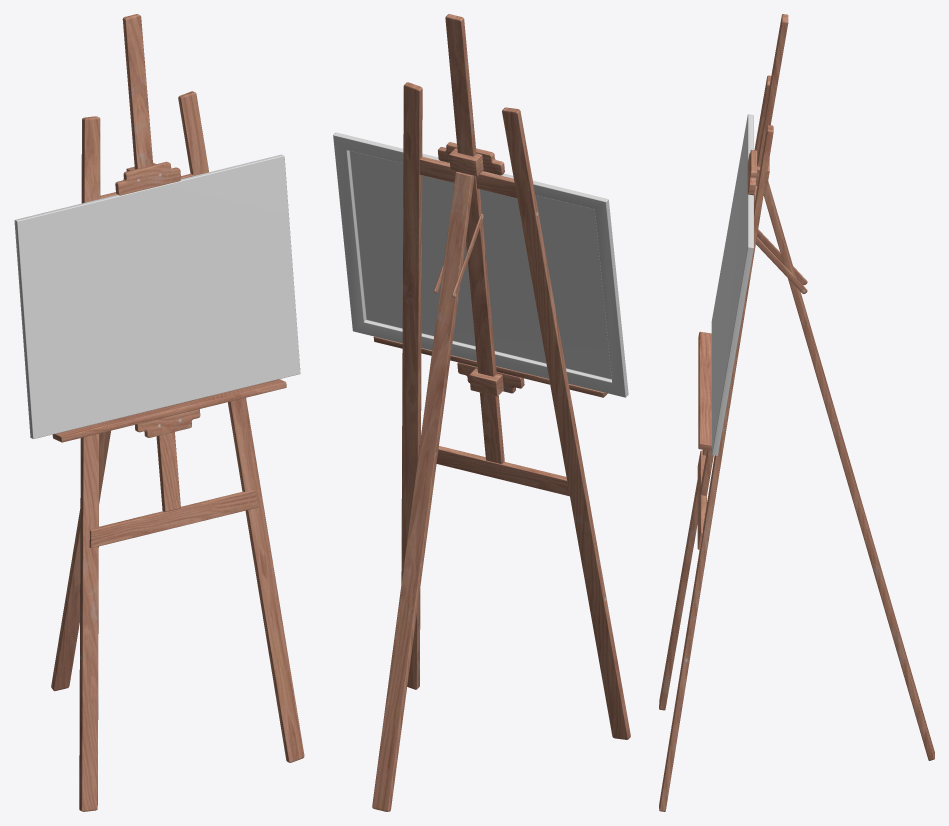
The model's file is v2_Painting_canvas.fbx.
3 renders of one model, left to right at view 1: azimuth 30°, elevation 25°; view 2: azimuth 150°, elevation 25°; view 3: azimuth 270°, elevation 25°, orthographic. The views are drawn at different scales.
Visible parts, largest first — view 1: canvas, Stand; view 2: Stand, canvas; view 3: Stand, canvas.
Part boxes in pixels (<box>): canvas: <box>14,154,300,438</box>; Stand: <box>51,14,304,811</box>; Stand: <box>372,14,630,811</box>; canvas: <box>333,132,628,397</box>; Stand: <box>659,14,934,811</box>; canvas: <box>711,114,753,455</box>.
Size of the model in its own units: 96.15 by 248 by 83.55.
